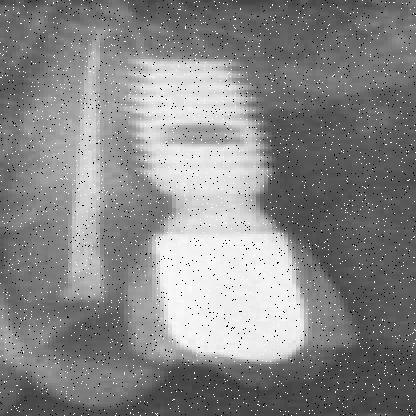Bicon: (123, 48, 275, 202)
